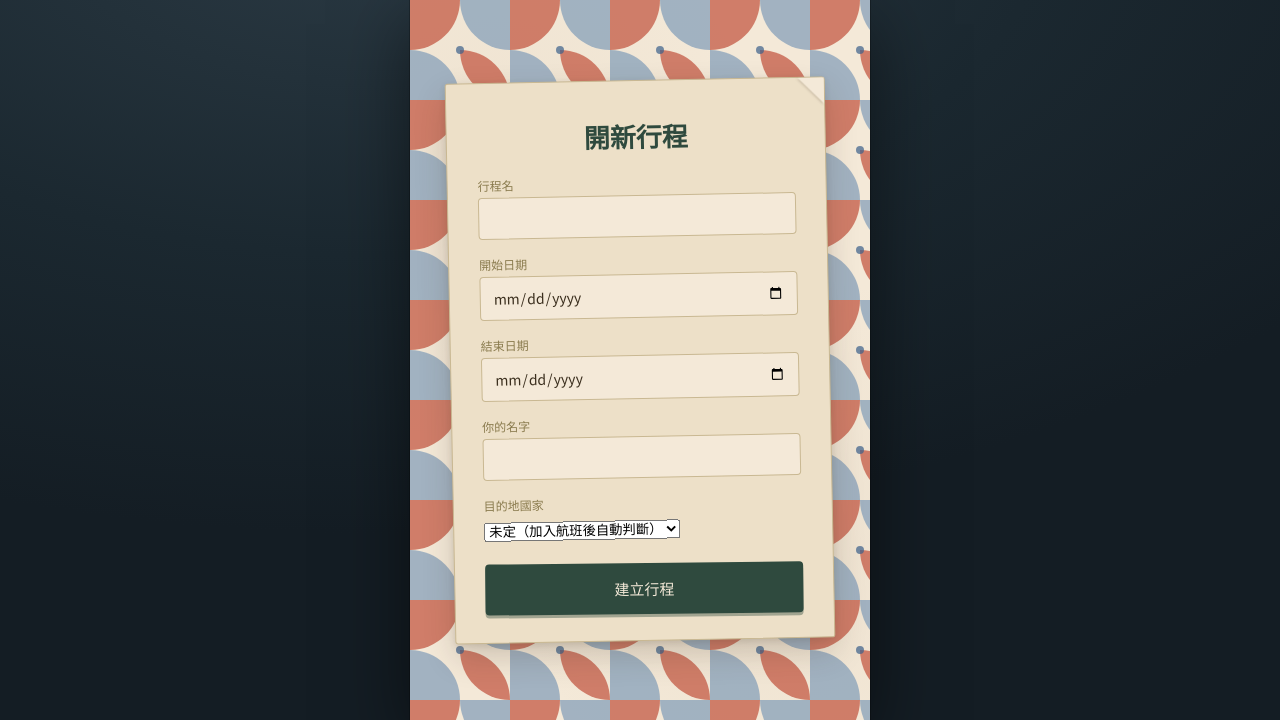
Test case: CreateTrip › refuses an end date that is earlier than the start date
Type "東京五日" into the field labelled "行程名".
click(637, 216); type("東京五日")  # box left=478, top=192, right=797, bottom=240
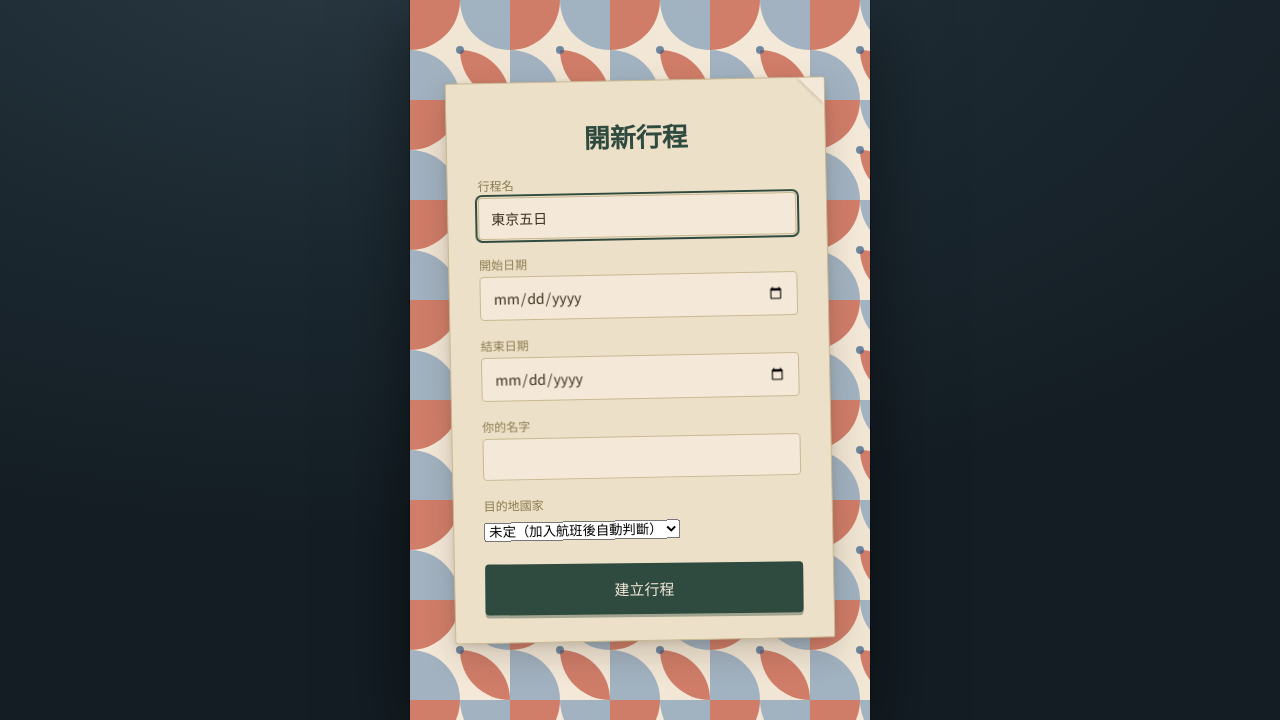
Type "2026-08-05" into the date field labelled "開始日期".
click(639, 296); type("2026-08-05")  # box left=479, top=270, right=798, bottom=321
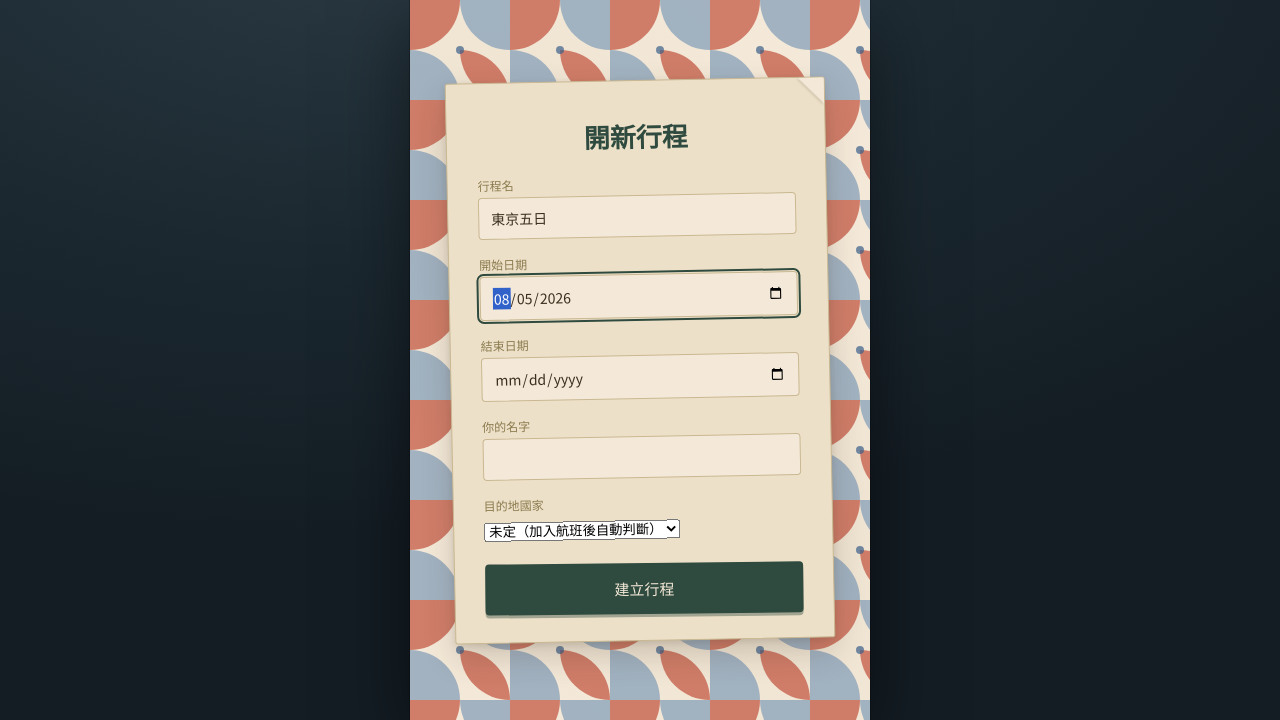
Type "2026-08-01" into the date field labelled "結束日期".
click(640, 376); type("2026-08-01")  # box left=481, top=351, right=800, bottom=402
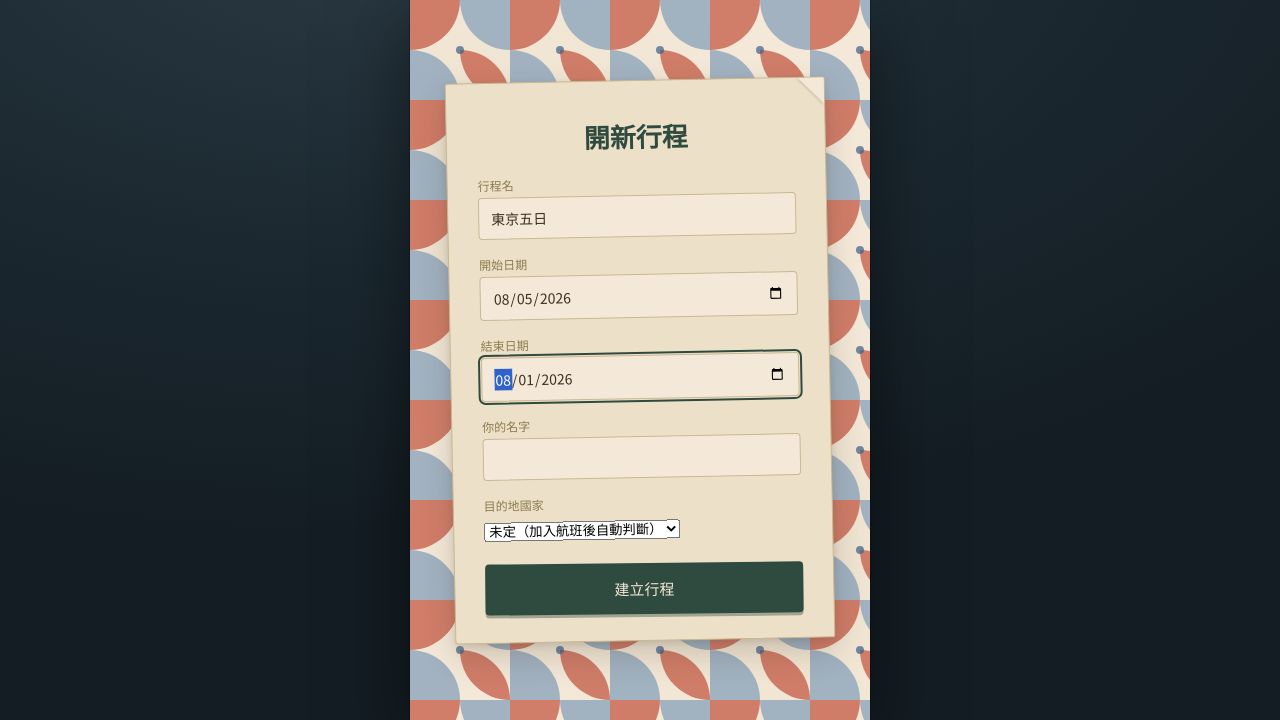
Type "阿明" into the field labelled "你的名字".
click(642, 456); type("阿明")  # box left=482, top=432, right=801, bottom=480
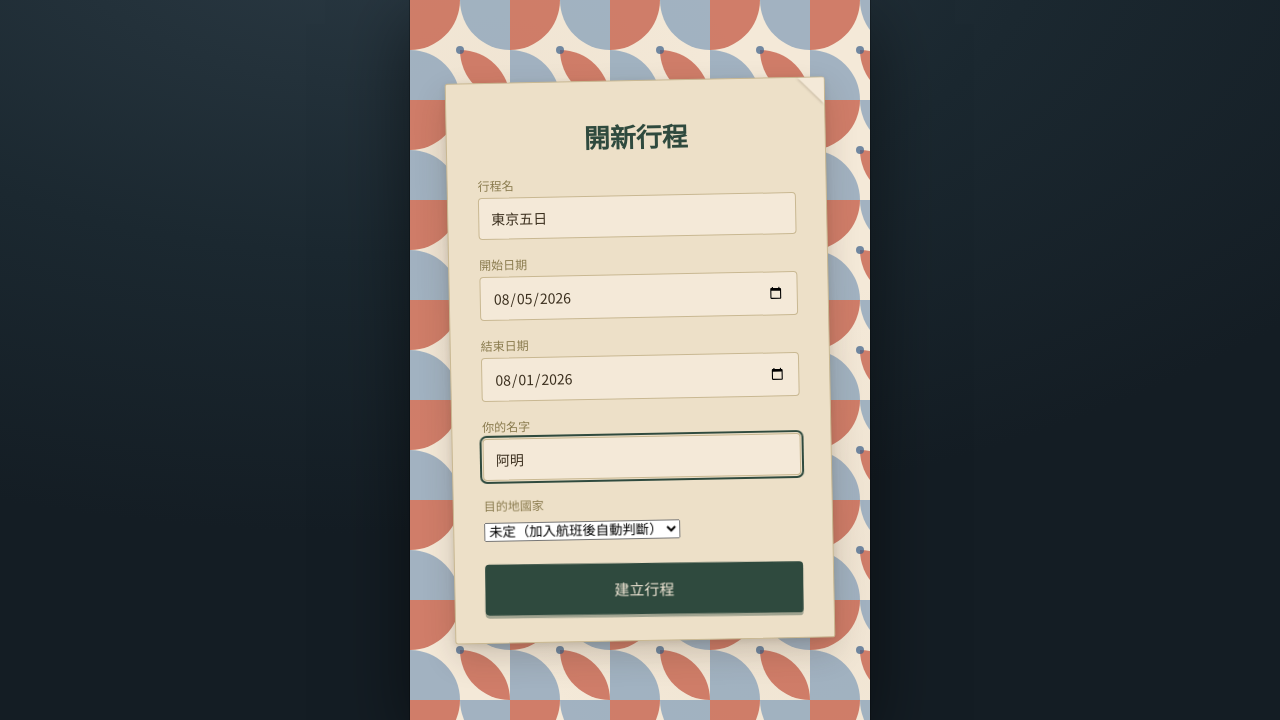
Click the button "建立行程".
click(644, 588)  # box left=485, top=561, right=804, bottom=615
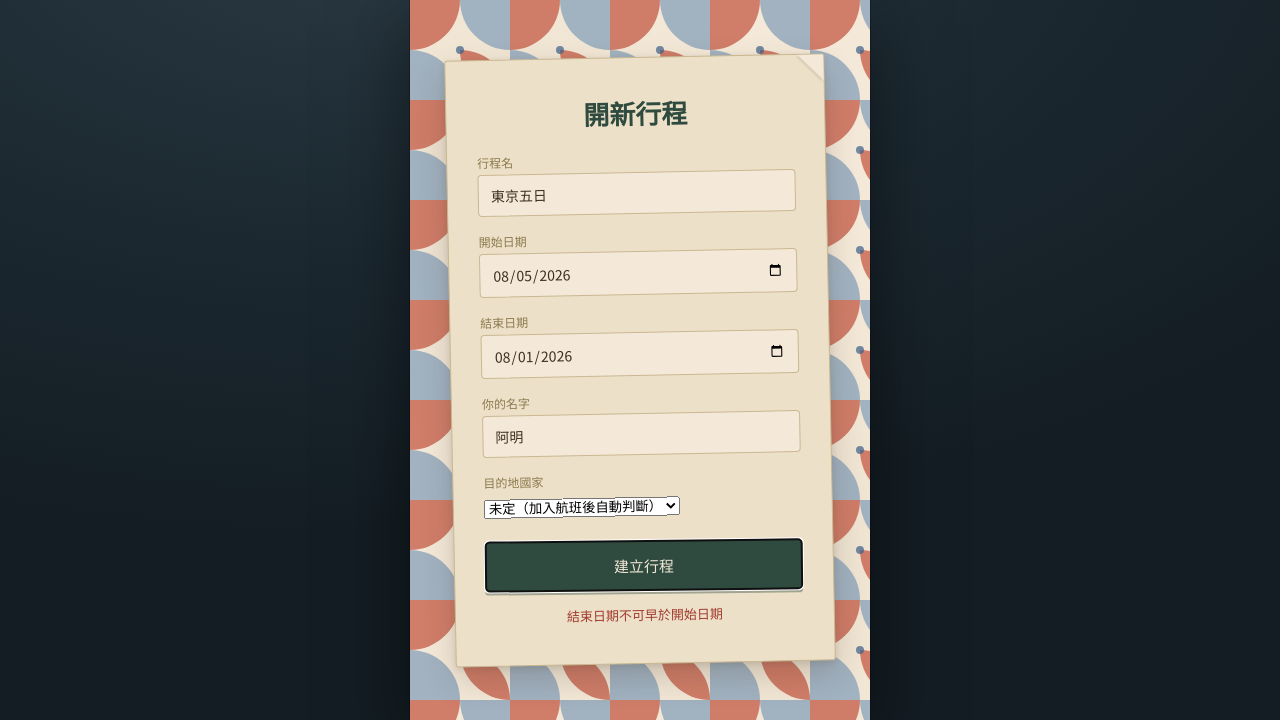
Check: the text "結束日期不可早於開始日期" is shown, box left=567, top=603, right=723, bottom=625
